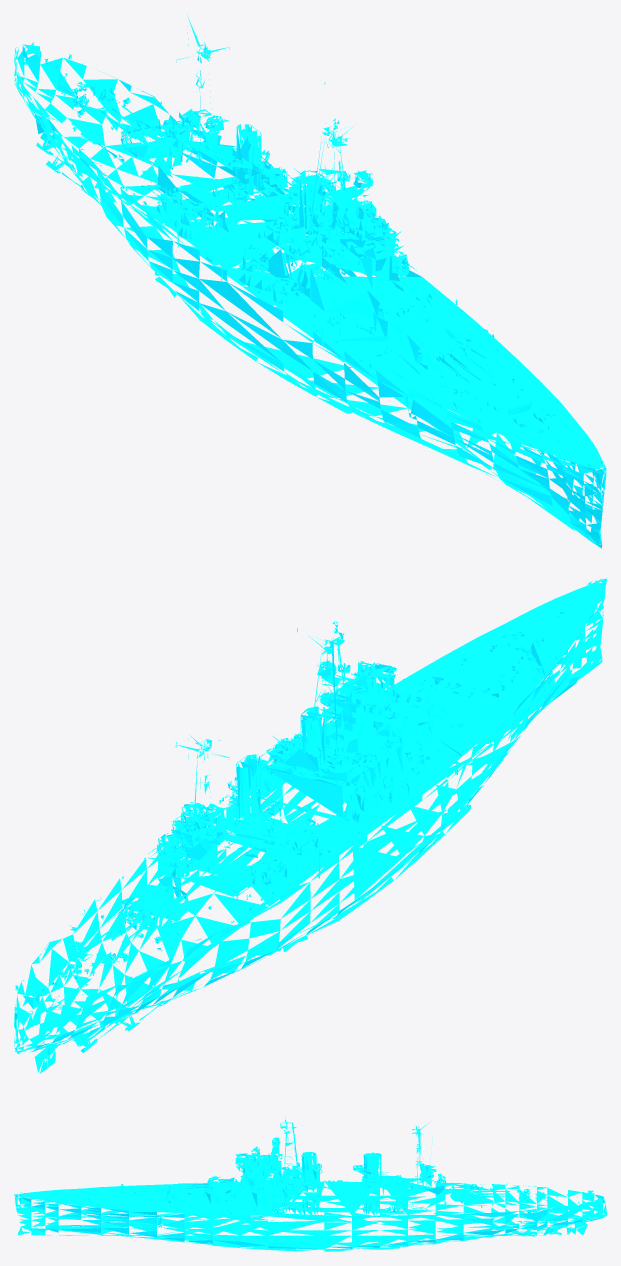
File: Monarch.glb
The picture shows the model from 3 angles, top to bottom: view 1: azimuth 30°, elevation 25°; view 2: azimuth 150°, elevation 25°; view 3: azimuth 270°, elevation 25°; orthographic projection. The views are drawn at different scales.
Bounding box in the file's own units: 2.17 × 3.76 × 15.12.
